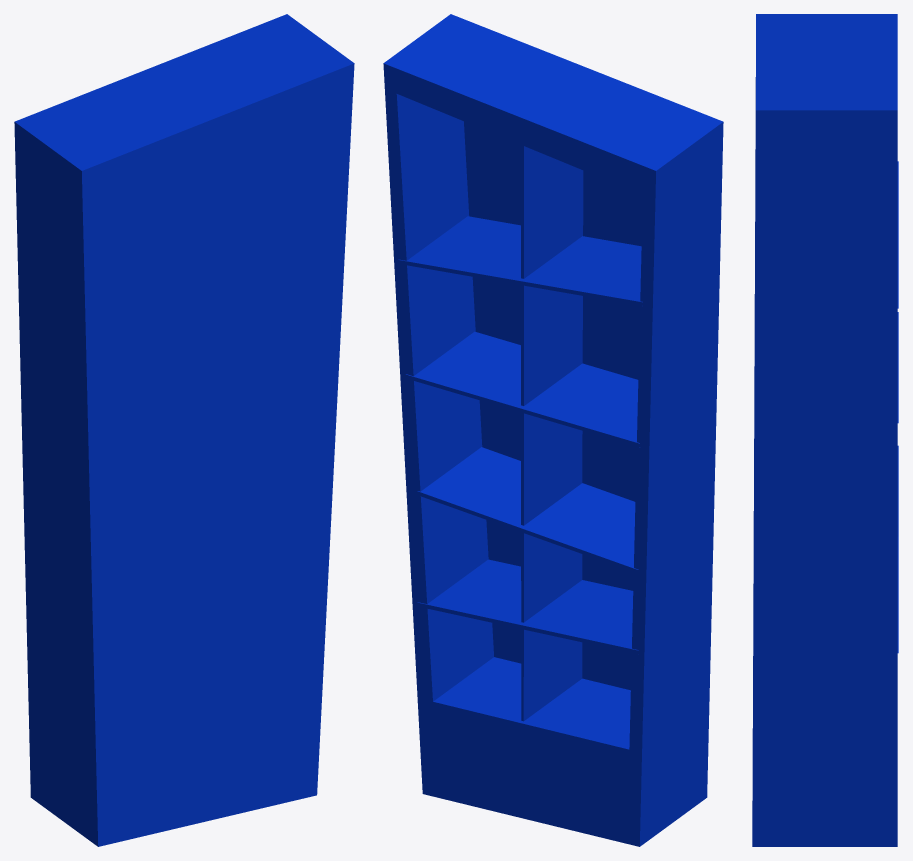
File: BgMD_bookshelf_hi (3).fbx
3 views of the same model, side by side, from view 1: azimuth 30°, elevation 25°; view 2: azimuth 150°, elevation 25°; view 3: azimuth 270°, elevation 25° (orthographic). The views are drawn at different scales.
Parts seen in each view (by area): view 1: Bg_Bookshelf_Hi; view 2: Bg_Bookshelf_Hi; view 3: Bg_Bookshelf_Hi.
Boxes of the visible parts, x1,y1,x2,y2 form: Bg_Bookshelf_Hi: (14, 14, 354, 846); Bg_Bookshelf_Hi: (383, 14, 723, 846); Bg_Bookshelf_Hi: (752, 14, 898, 846).
Size of the model in its own units: 72.43 by 183 by 32.1.
Materials: 1 (1 with a texture image).
